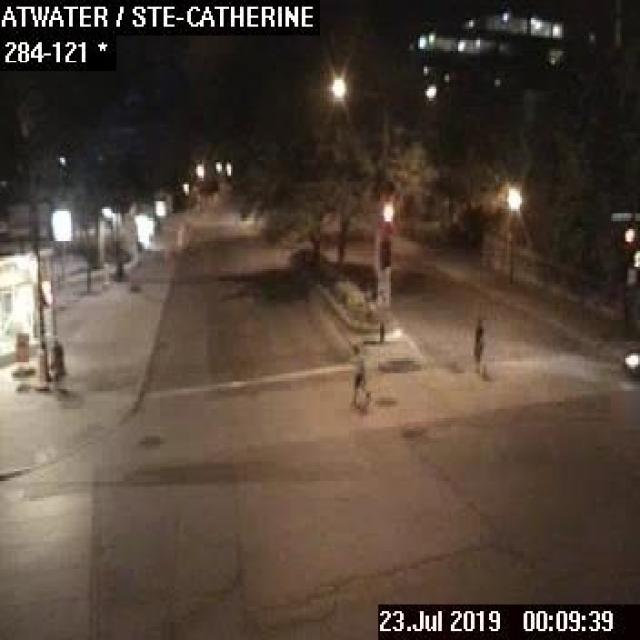construction: (13, 330, 29, 390)
pedestrian: (347, 340, 369, 407), (47, 334, 63, 395), (471, 316, 485, 374)
vehicle: (622, 346, 638, 376)
